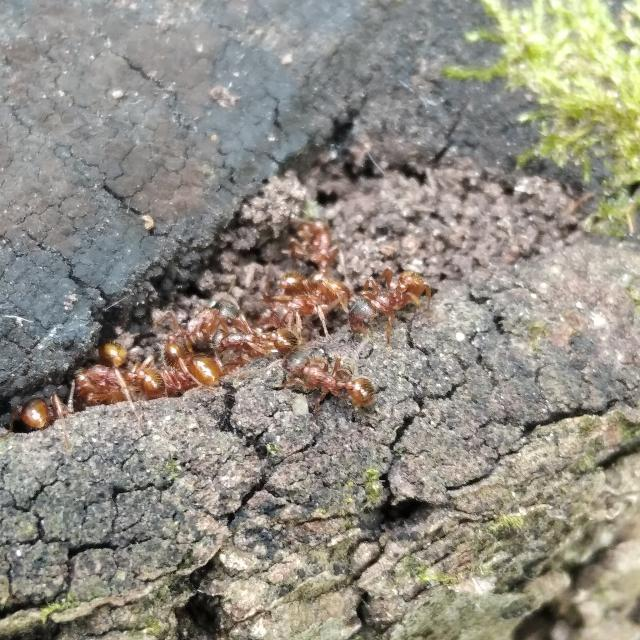Myrmica: (276, 340, 382, 416), (341, 257, 439, 337), (148, 290, 252, 346), (9, 381, 80, 444), (266, 262, 356, 308), (156, 338, 228, 394), (70, 366, 168, 404), (294, 204, 352, 266), (204, 323, 282, 363)
